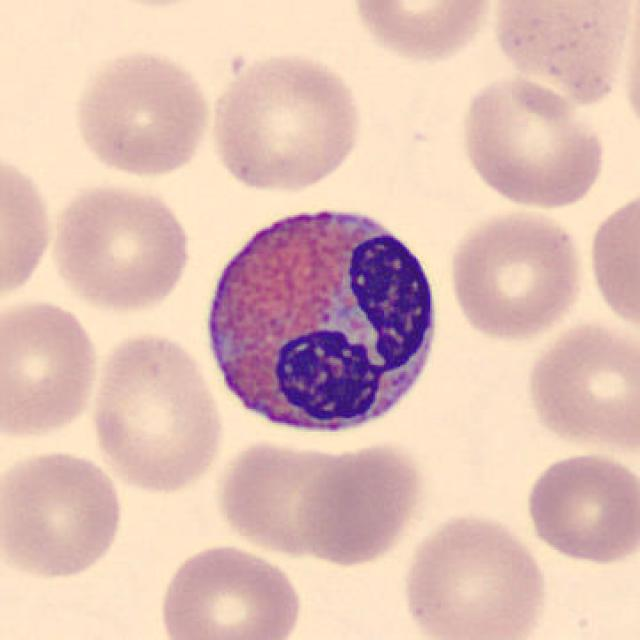Eosinophil: (194, 185, 452, 451)
RBC: (203, 48, 366, 196), (86, 328, 228, 497), (455, 72, 610, 212), (46, 178, 194, 316), (398, 508, 551, 640), (444, 204, 588, 344), (69, 44, 215, 182), (212, 434, 370, 559), (292, 437, 428, 568), (2, 444, 126, 584), (521, 317, 638, 457), (489, 0, 636, 111), (154, 539, 305, 640), (0, 296, 103, 444), (521, 448, 638, 566), (347, 0, 498, 65), (0, 146, 57, 308), (585, 183, 638, 337), (618, 1, 640, 146), (80, 0, 233, 12)
